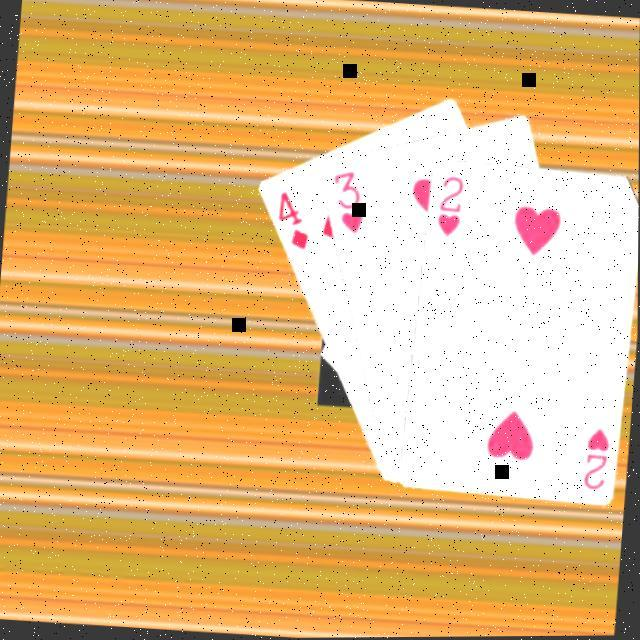2H: (434, 169, 469, 239), (581, 422, 616, 492)
3H: (328, 164, 372, 236)
4D: (273, 184, 316, 252)
